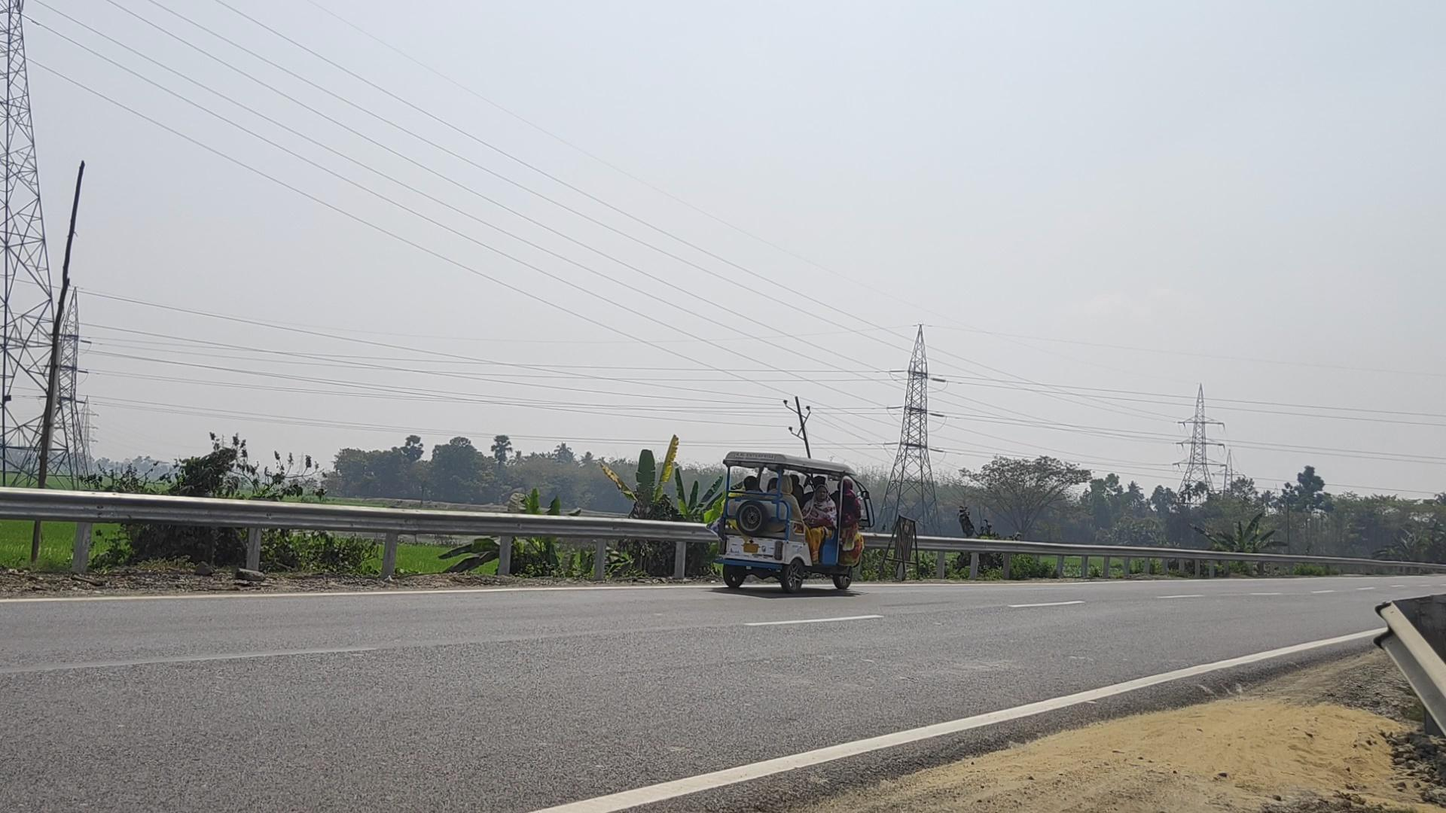Auto: (713, 451, 875, 594)
